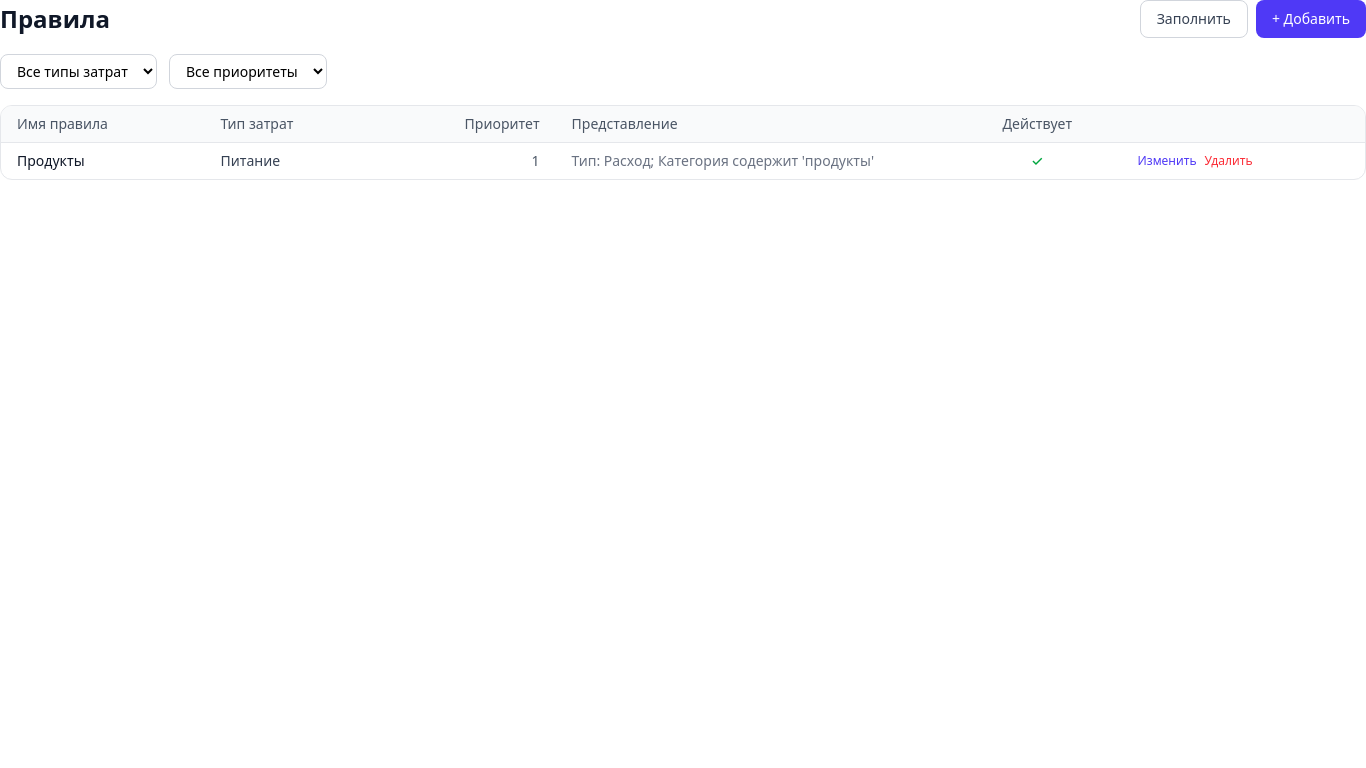
Test case: Rules page › opens RuleFillModal when "Заполнить" is clicked
The width and height of the screenshot is (1366, 768).
Click the button "Заполнить" at (1194, 19), box [1140,0,1248,38]
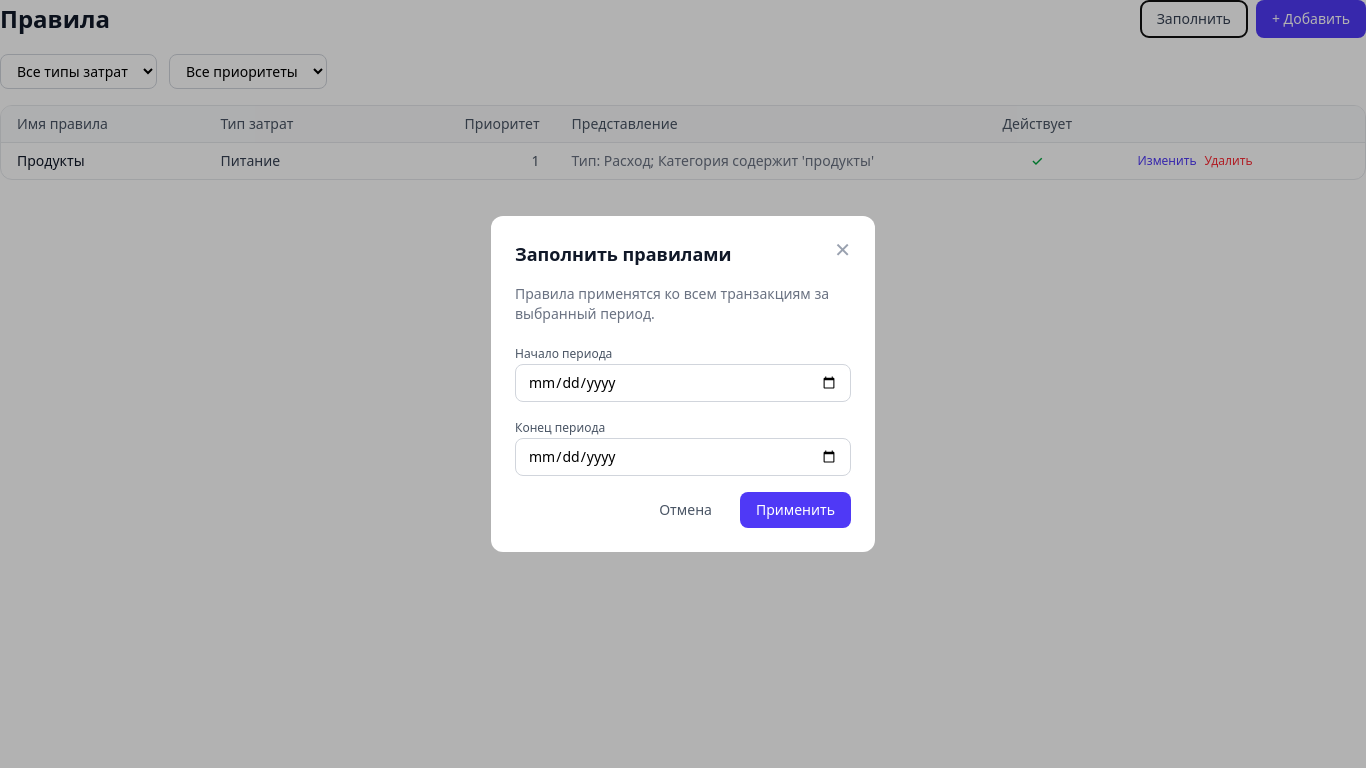
Now the heading "Заполнить правилами" is shown, box [515,240,732,268]
Now the button "Применить" is shown, box [740,492,851,528]
